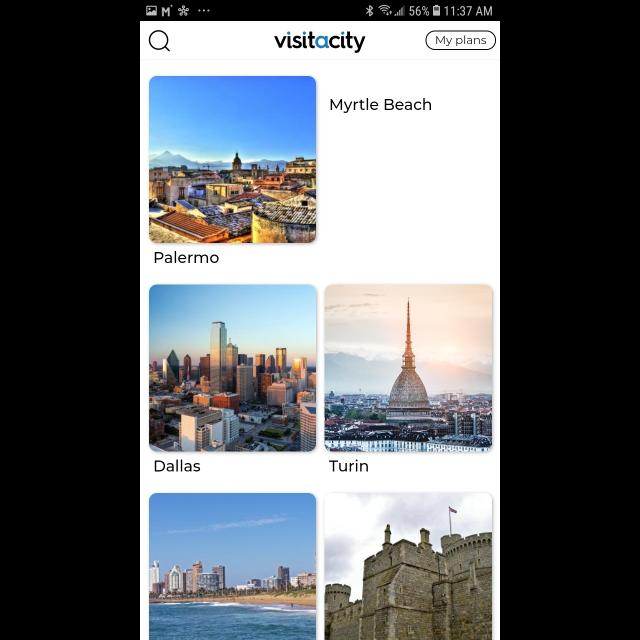icon: (149, 31, 171, 53)
image: (324, 284, 492, 452), (150, 76, 316, 244), (150, 284, 316, 452), (324, 492, 492, 640), (150, 492, 316, 640), (274, 32, 366, 54)
text: (331, 98, 432, 114), (155, 252, 219, 264), (155, 460, 201, 472), (329, 460, 368, 472)
textbutton: (426, 31, 496, 51)
uppertaskbar: (140, 1, 500, 22)
